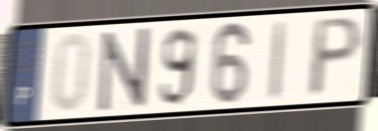0: (49, 31, 95, 116)
6: (209, 19, 252, 107)
9: (157, 26, 198, 107)
I: (267, 17, 289, 103)
N: (98, 25, 152, 116)
P: (305, 14, 366, 101)
